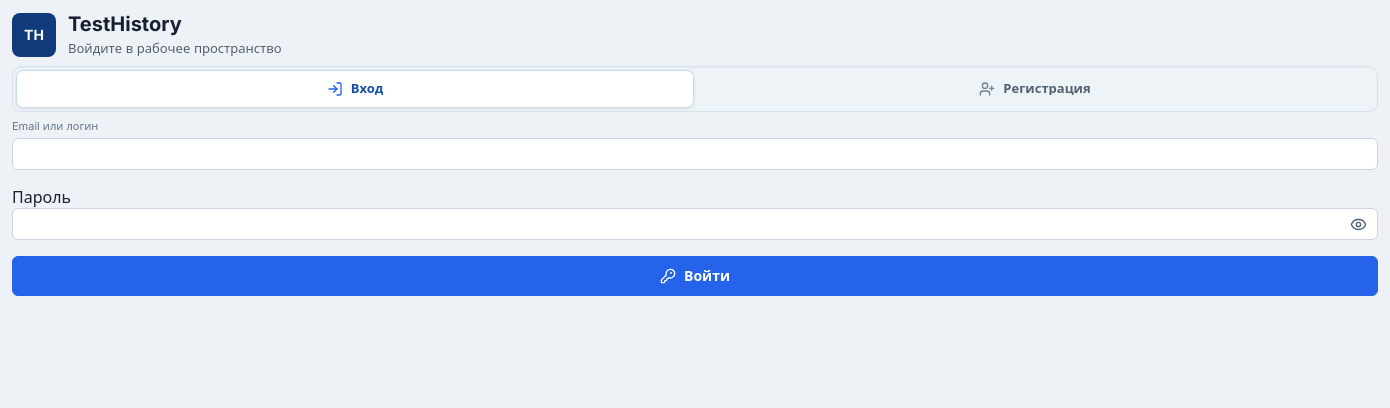
Test: AuthPanel › gives a recovery action for a duplicate registration without server details
This screenshot has width=1390, height=408.
Click the tab with id "auth-register-tab" at (1035, 88), box x1=696 y1=70 x2=1374 y2=108
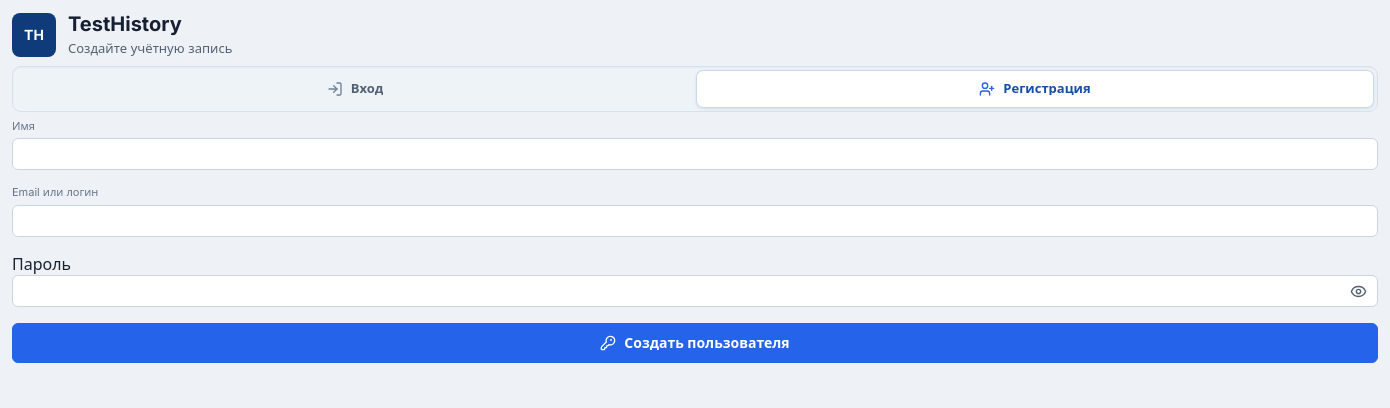
Submit the panel with id "auth-form-panel", box x1=12 y1=120 x2=1378 y2=363
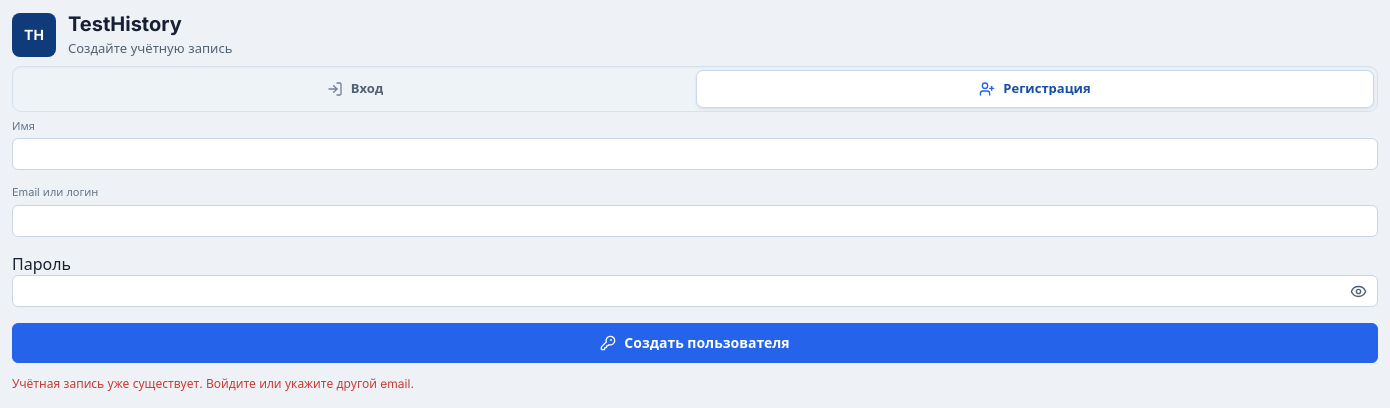
Expected: the message with class "auth-login__feedback" shows "Войдите или укажите другой email", x1=12 y1=376 x2=414 y2=391
